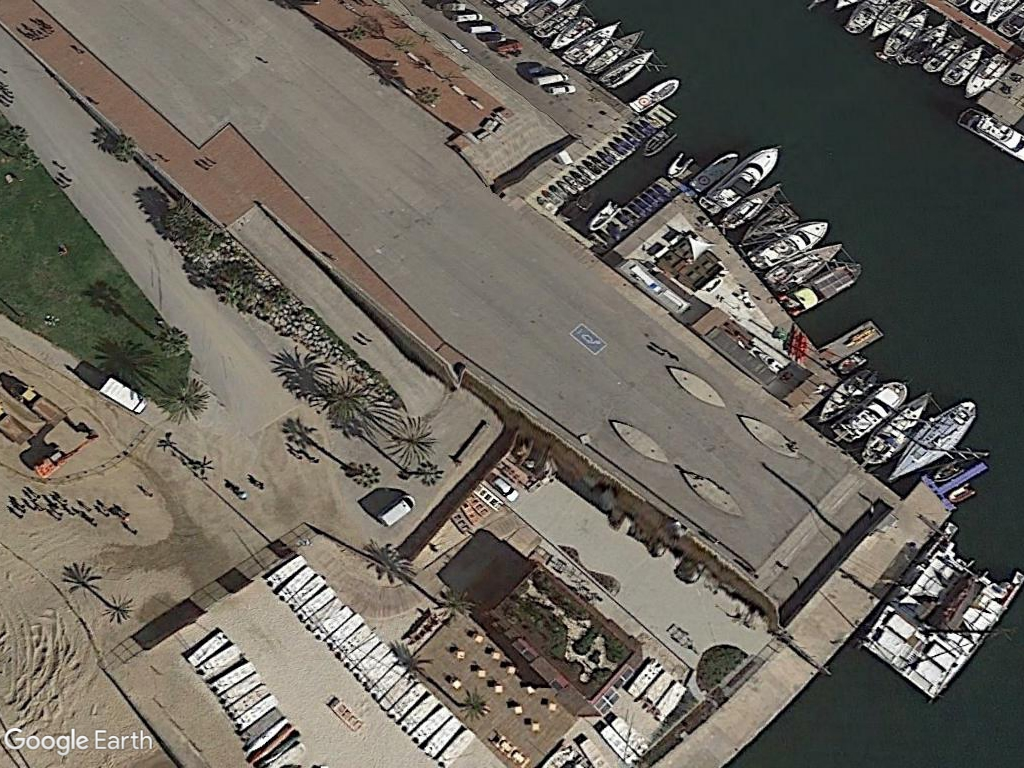truck: (92, 371, 150, 416), (370, 494, 422, 529)
